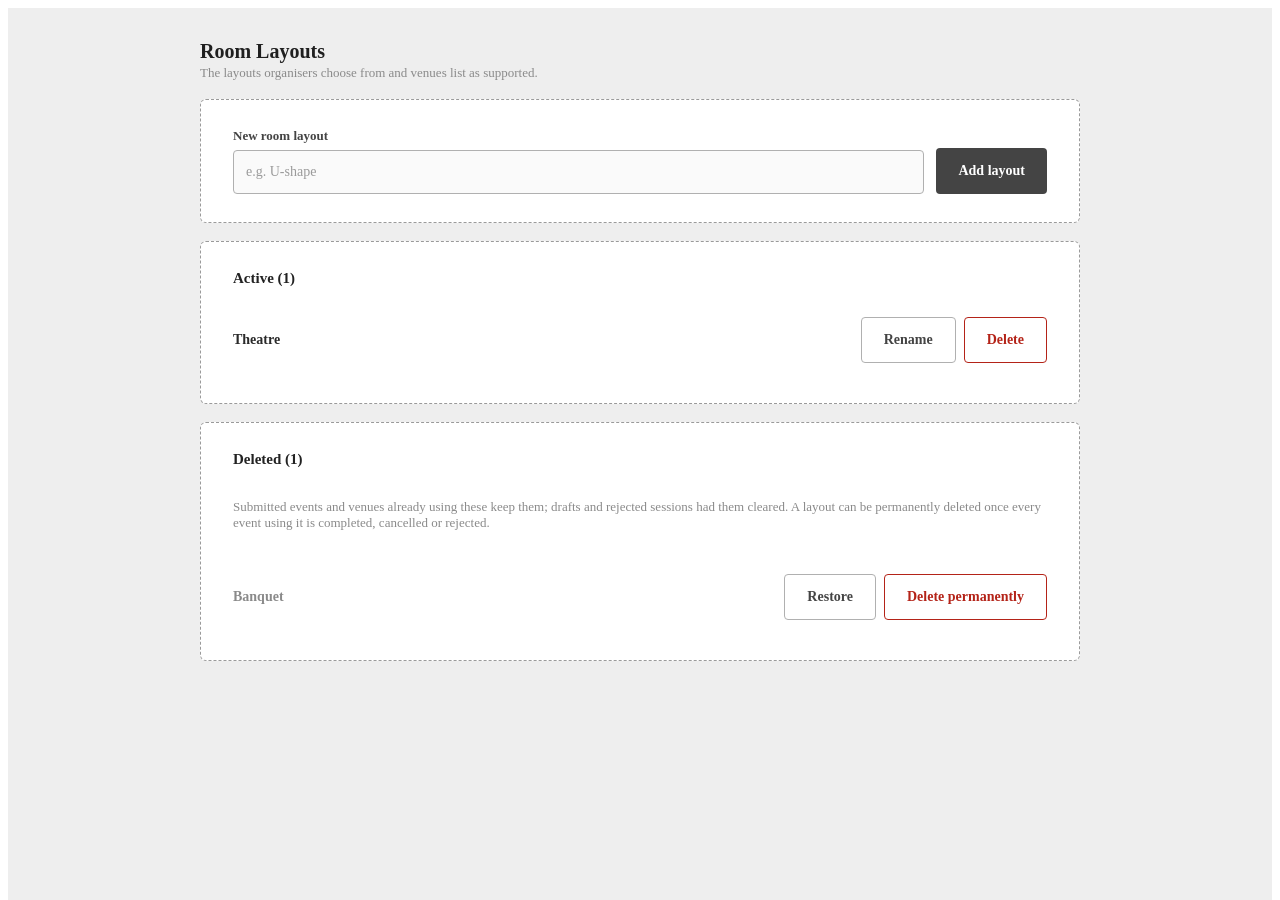
RoomLayoutsView › shows the backend's reason when a permanent delete is refused
What coordinates should you click on to do the following:
click the button "Delete permanently"
I would click on:
 (966, 597)
Its box is [884,574,1047,620].
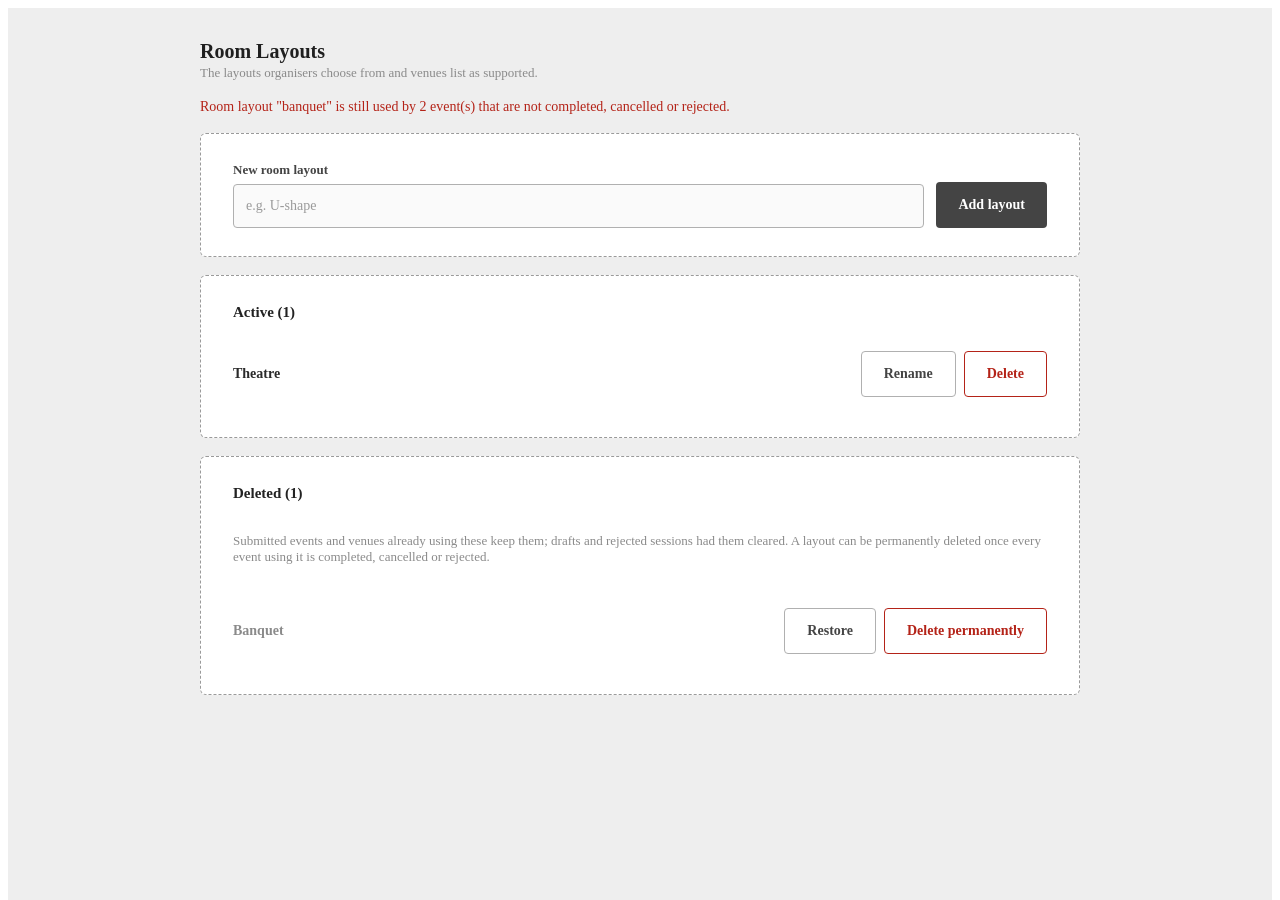
Check: the number of list items with test id "deleted-layout" is 1, box [233,596,1047,666]
Check: the message shows "still used by 2 event(s)", box [200,99,730,114]
